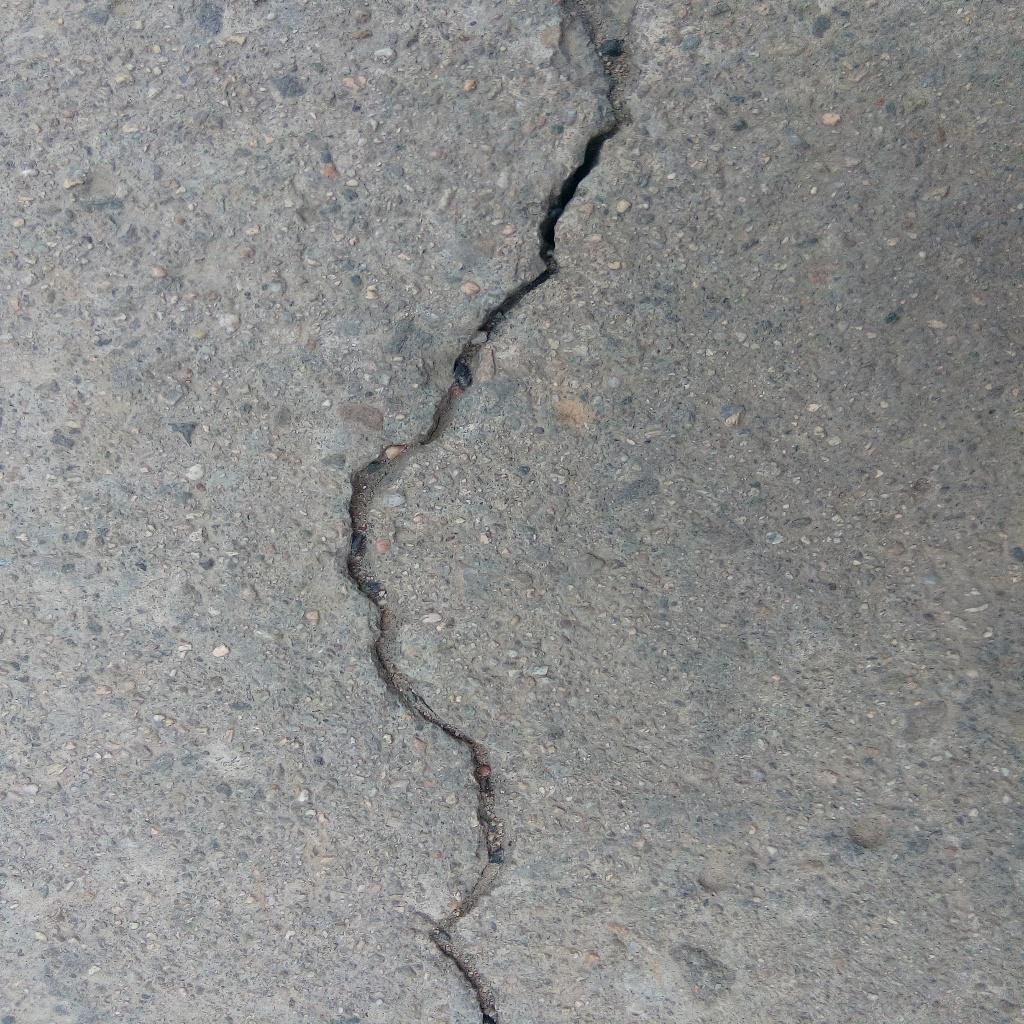Crack: (342, 117, 624, 1024)
Spalling: (549, 1, 642, 118)
